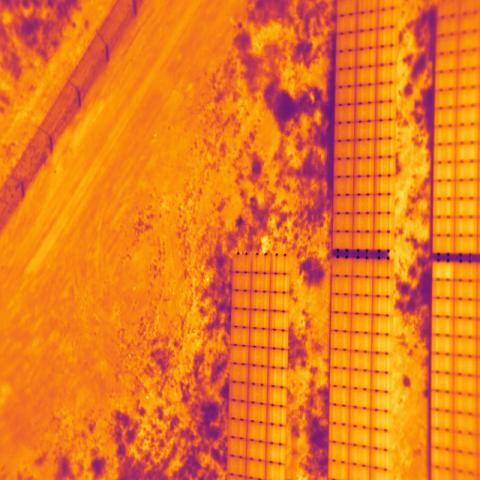fault: (433, 260, 455, 282)
